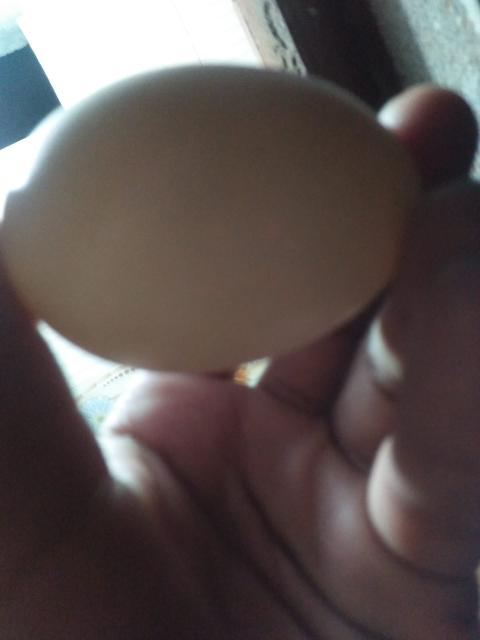Sano: (1, 61, 422, 376)
